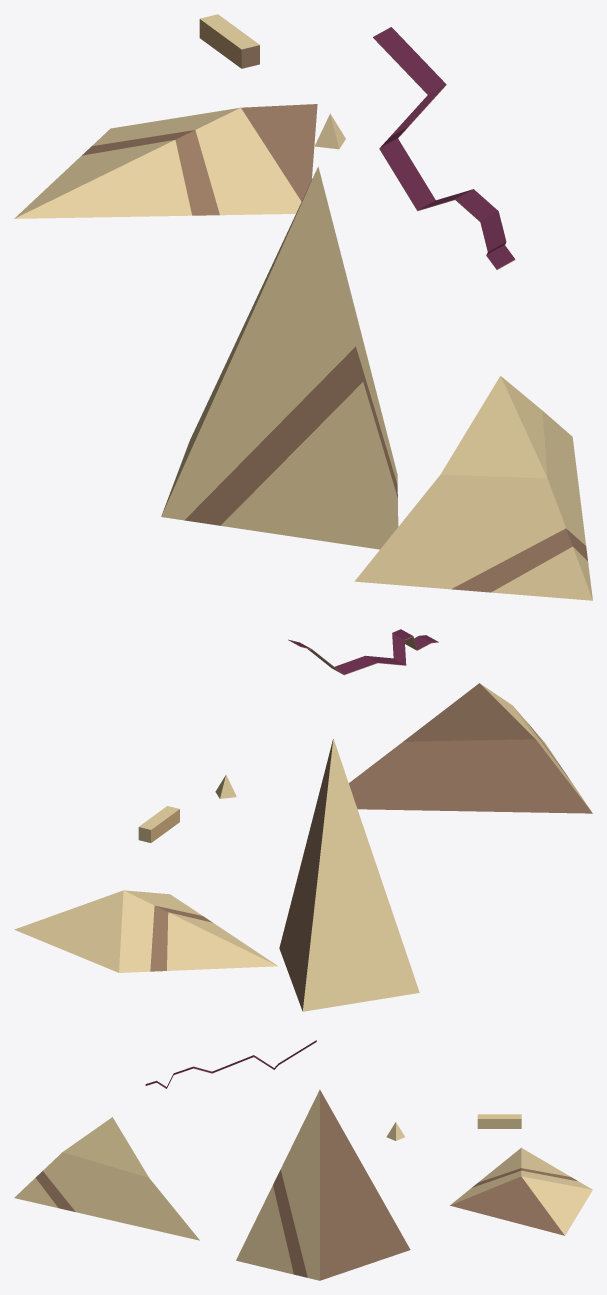
The model's file is voyage terrain assets.fbx.
The picture shows the model from 3 angles, top to bottom: view 1: azimuth 30°, elevation 25°; view 2: azimuth 150°, elevation 25°; view 3: azimuth 270°, elevation 25°; orthographic projection. The views are drawn at different scales.
Visible parts, largest first — view 1: Cone.002, Piramidal grande, Cone.001, Strap, Cube; view 2: Cone.002, Piramidal grande, Cone.001, Strap, Cube; view 3: Cone.002, Piramidal grande, Cone.001, Cube, Strap.
Boxes of the visible parts, x1,y1,x2,y2 form: Cone.002: (161,166,398,549); Piramidal grande: (354,376,592,600); Cone.001: (14,104,317,218); Strap: (373,27,515,269); Cube: (199,14,259,68); Cone.002: (279,738,419,1011); Piramidal grande: (349,683,592,813); Cone.001: (14,890,277,972); Strap: (288,629,438,675); Cube: (138,806,179,842); Cone.002: (236,1089,410,1280); Piramidal grande: (14,1117,199,1240); Cone.001: (450,1147,592,1235); Cube: (477,1114,521,1128); Strap: (145,1040,316,1088).
Bounding box in the file's own units: 4393 × 4680 × 10377.
3 materials, 3 textured.
